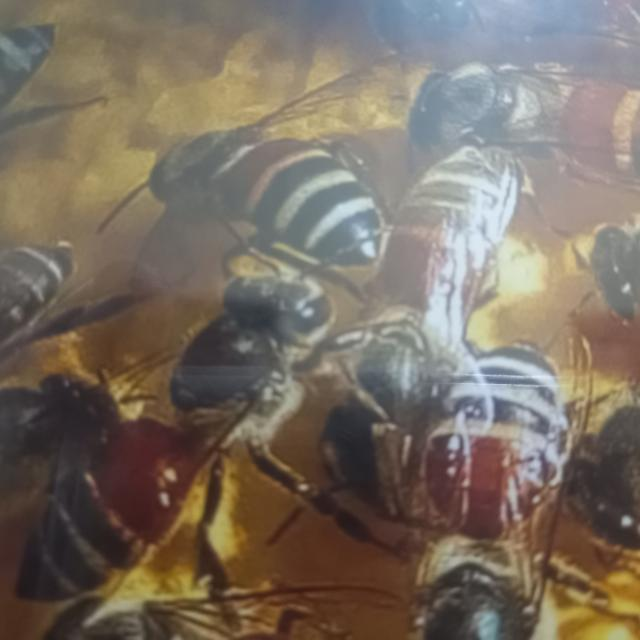honeybee: (16, 270, 344, 638), (326, 140, 530, 540), (420, 341, 586, 640), (124, 110, 388, 264), (404, 44, 640, 189)
